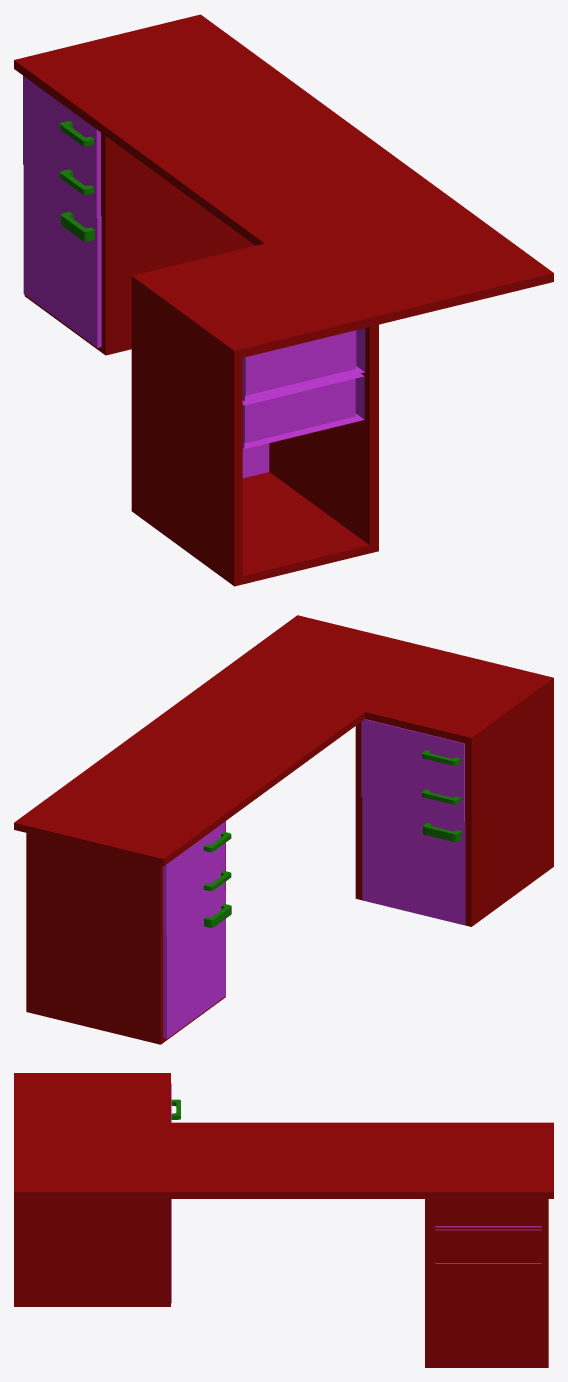
File: zzzz.fbx
3 renders of one model, top to bottom at view 1: azimuth 30°, elevation 25°; view 2: azimuth 150°, elevation 25°; view 3: azimuth 270°, elevation 25°, orthographic. The views are drawn at different scales.
Visible parts, largest first — view 1: Bureau, Tir_007, Tir_005, Tir_003, Tir_008, Tir_006, Tir_004; view 2: Bureau, Tir_004, Tir_007, Tir_003, Tir_005, Tir_008, Tir_006; view 3: Bureau.
Boxes of the visible parts, bbox=[...] form: Bureau: bbox=[14, 14, 553, 586]; Tir_007: bbox=[23, 165, 101, 347]; Tir_005: bbox=[242, 373, 364, 449]; Tir_003: bbox=[242, 328, 365, 401]; Tir_008: bbox=[23, 116, 100, 217]; Tir_006: bbox=[23, 76, 100, 170]; Tir_004: bbox=[242, 443, 269, 478]; Bureau: bbox=[14, 615, 553, 1044]; Tir_004: bbox=[362, 797, 465, 925]; Tir_007: bbox=[163, 891, 231, 1038]; Tir_003: bbox=[361, 719, 464, 782]; Tir_005: bbox=[361, 758, 464, 820]; Tir_008: bbox=[163, 854, 231, 935]; Tir_006: bbox=[163, 821, 231, 897]; Bureau: bbox=[14, 1073, 553, 1367].
Bounding box in the file's own units: 96.99 × 68.3 × 186.
